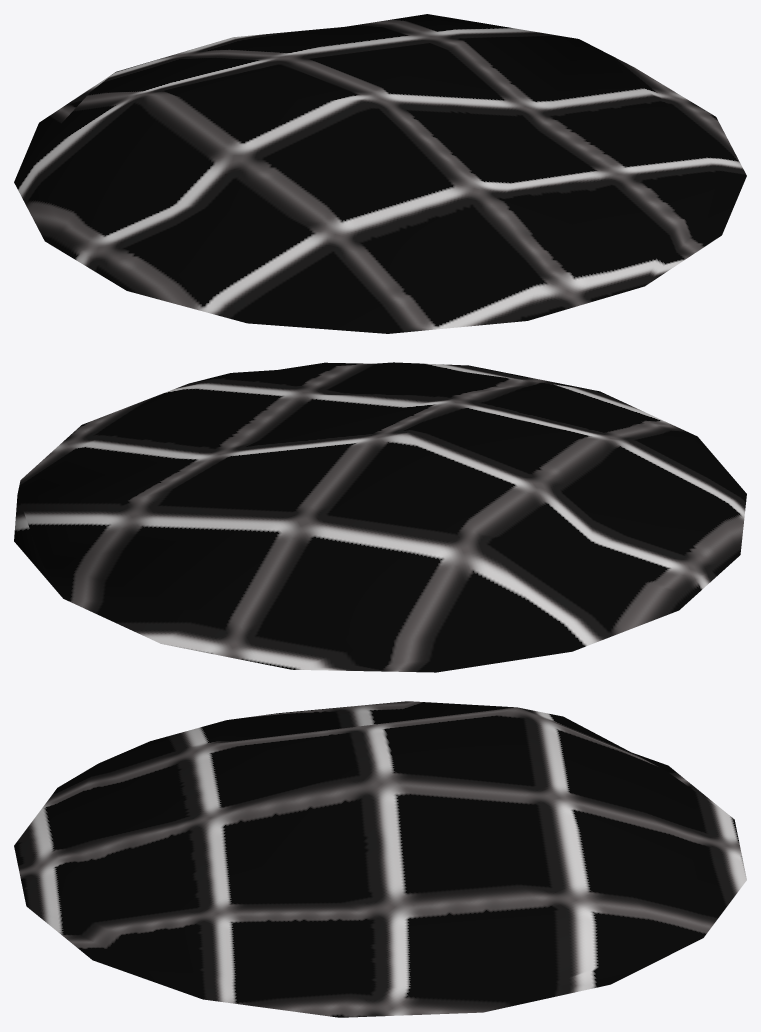
The model's file is ground_2.fbx.
The picture shows the model from 3 angles, top to bottom: view 1: azimuth 30°, elevation 25°; view 2: azimuth 150°, elevation 25°; view 3: azimuth 270°, elevation 25°; orthographic projection.
Visible parts, largest first — view 1: ground_2; view 2: ground_2; view 3: ground_2.
Part boxes in pixels (bbox=[...]): ground_2: bbox=[14, 14, 746, 333]; ground_2: bbox=[14, 362, 746, 672]; ground_2: bbox=[14, 701, 746, 1017].
Size of the model in its own units: 243 by 31.9 by 243.
